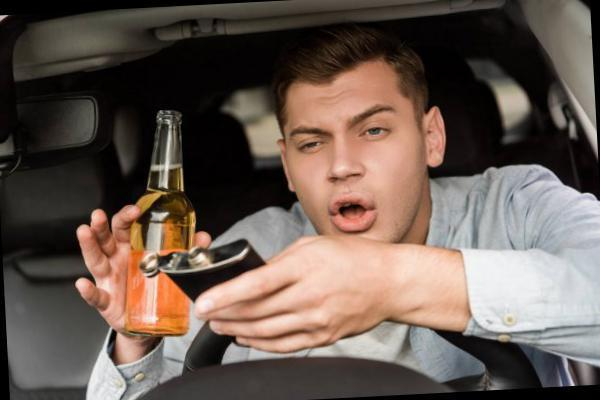Drunk: (288, 86, 421, 238)
